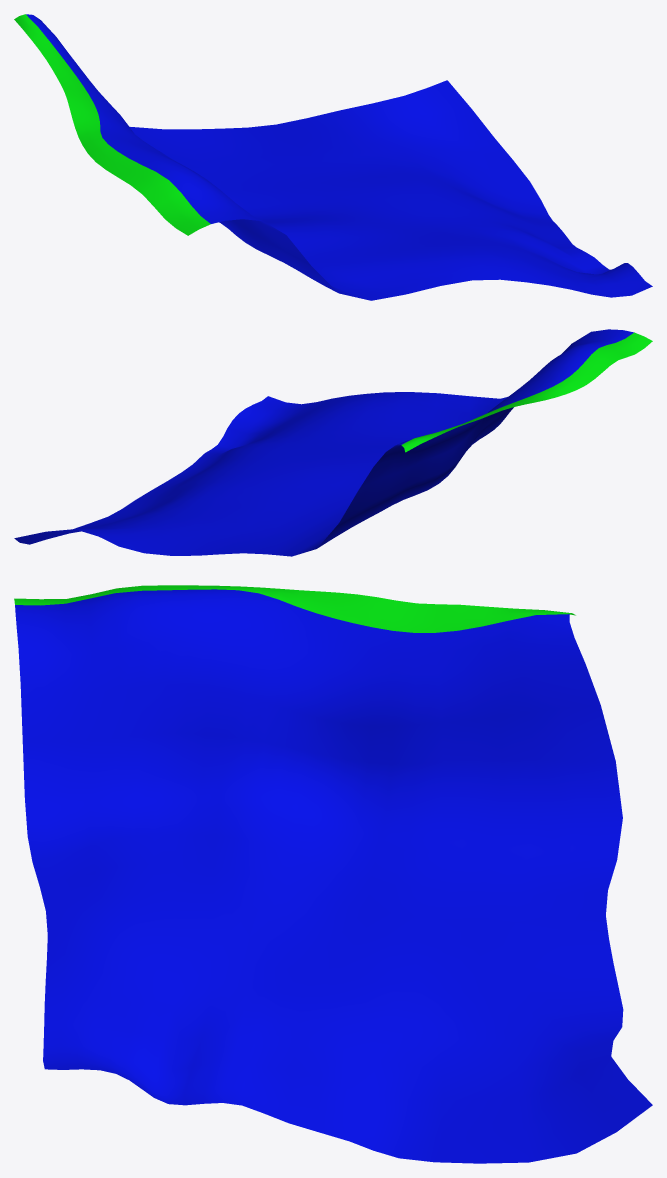
3 views of the same model, one above another, from view 1: azimuth 30°, elevation 25°; view 2: azimuth 150°, elevation 25°; view 3: azimuth 270°, elevation 25° (orthographic). The views are drawn at different scales.
Parts seen in each view (by area): view 1: T8; view 2: T8; view 3: T8.
Boxes of the visible parts, x1,y1,x2,y2 form: T8: [14, 14, 652, 300]; T8: [14, 329, 652, 556]; T8: [14, 585, 652, 1163].
Size of the model in its own units: 6198 by 2726 by 5389.
